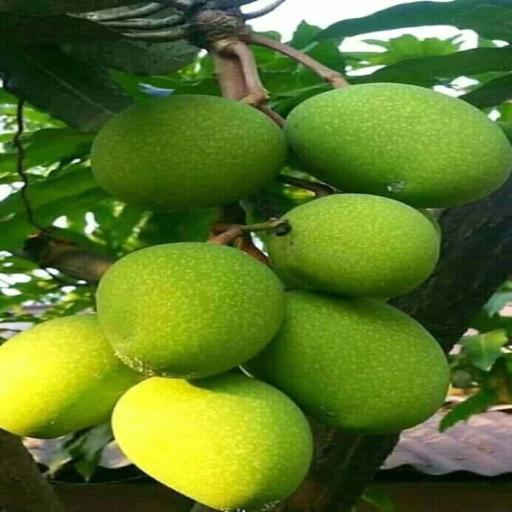mango: (245, 292, 449, 434), (286, 83, 511, 207), (113, 374, 312, 510), (98, 243, 284, 378), (91, 95, 285, 210), (267, 194, 439, 297), (0, 315, 140, 437)
